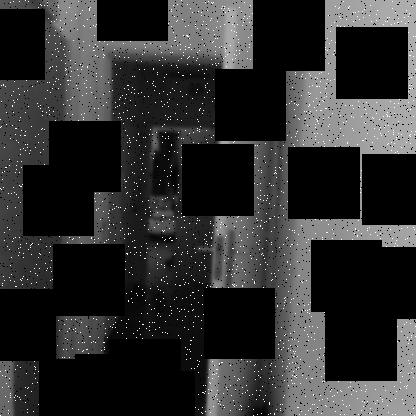Porte: (88, 6, 288, 415)
